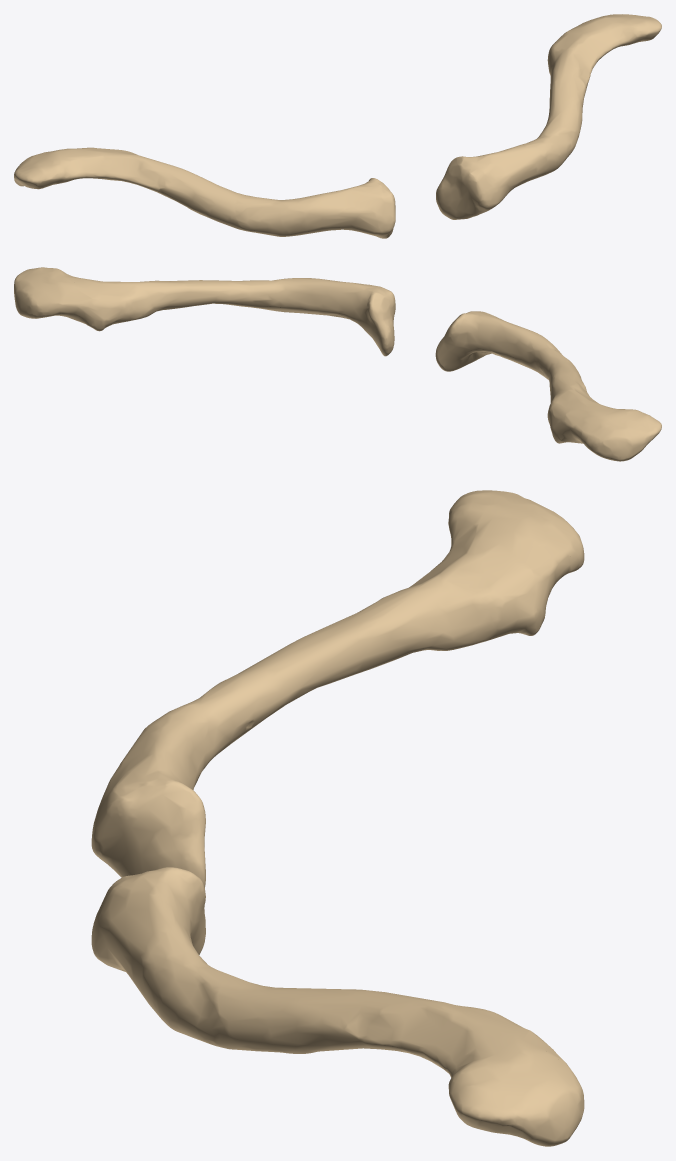
File: explorar-clavicle.glb
3 views of the same model, one above another, from view 1: azimuth 30°, elevation 25°; view 2: azimuth 150°, elevation 25°; view 3: azimuth 270°, elevation 25° (orthographic). The views are drawn at different scales.
Parts seen in each view (by area): view 1: clavicle__cuerpo_derecho, clavicle__cuerpo_izquierdo, clavicle__extremo_esternal_izquierdo, clavicle__extremo_esternal_derecho, clavicle__extremo_acromial_derecho, clavicle__extremo_acromial_izquierdo; view 2: clavicle__cuerpo_izquierdo, clavicle__cuerpo_derecho, clavicle__extremo_acromial_derecho, clavicle__extremo_esternal_izquierdo, clavicle__extremo_esternal_derecho, clavicle__extremo_acromial_izquierdo; view 3: clavicle__cuerpo_derecho, clavicle__cuerpo_izquierdo, clavicle__extremo_esternal_derecho, clavicle__extremo_acromial_izquierdo, clavicle__extremo_esternal_izquierdo, clavicle__extremo_acromial_derecho.
Boxes of the visible parts, left/top/right/bottom form: clavicle__cuerpo_derecho: left=65, top=147, right=359, bottom=236; clavicle__cuerpo_izquierdo: left=500, top=19, right=613, bottom=189; clavicle__extremo_esternal_izquierdo: left=436, top=150, right=522, bottom=219; clavicle__extremo_esternal_derecho: left=334, top=178, right=395, bottom=238; clavicle__extremo_acromial_derecho: left=14, top=149, right=86, bottom=189; clavicle__extremo_acromial_izquierdo: left=588, top=14, right=661, bottom=49; clavicle__cuerpo_izquierdo: left=56, top=278, right=342, bottom=331; clavicle__cuerpo_derecho: left=489, top=319, right=604, bottom=443; clavicle__extremo_acromial_derecho: left=581, top=405, right=661, bottom=461; clavicle__extremo_esternal_izquierdo: left=325, top=282, right=395, bottom=356; clavicle__extremo_esternal_derecho: left=435, top=311, right=511, bottom=371; clavicle__extremo_acromial_izquierdo: left=14, top=267, right=80, bottom=318; clavicle__cuerpo_derecho: left=120, top=528, right=571, bottom=789; clavicle__cuerpo_izquierdo: left=104, top=904, right=566, bottom=1072; clavicle__extremo_esternal_derecho: left=91, top=742, right=205, bottom=887; clavicle__extremo_acromial_izquierdo: left=446, top=1040, right=584, bottom=1146; clavicle__extremo_esternal_izquierdo: left=91, top=867, right=205, bottom=971; clavicle__extremo_acromial_derecho: left=448, top=490, right=584, bottom=574.
Size of the model in its own units: 0.2987 by 0.0351 by 0.0995.
